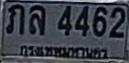2: (109, 6, 124, 37)
4: (74, 4, 88, 36), (57, 5, 71, 35)
6: (92, 6, 106, 36)
A32: (5, 4, 24, 34)
A36: (29, 4, 45, 34)
BKK: (18, 43, 110, 60)
